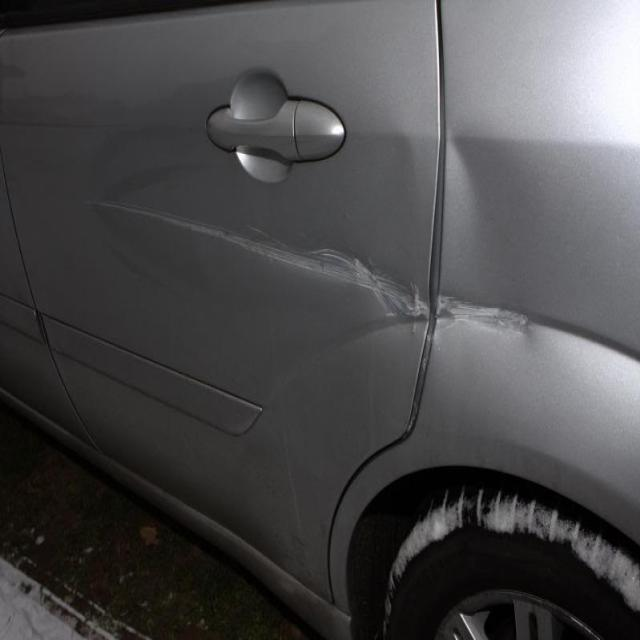Scratch: (249, 237, 537, 325)
